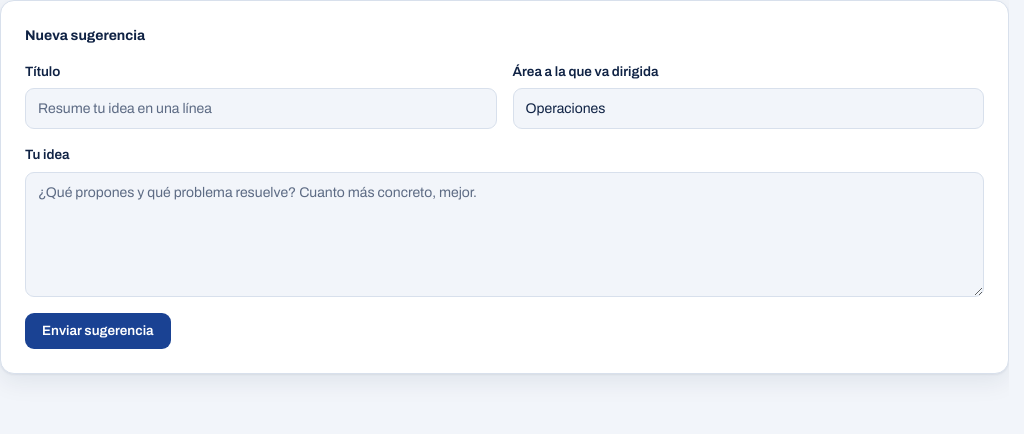
Test case: la validación local › deja de marcar el campo cuando el siguiente intento sale bien
This screenshot has width=1024, height=434.
In the field labelled "Título": (261, 109) [25, 88, 496, 129], type "Tablero"
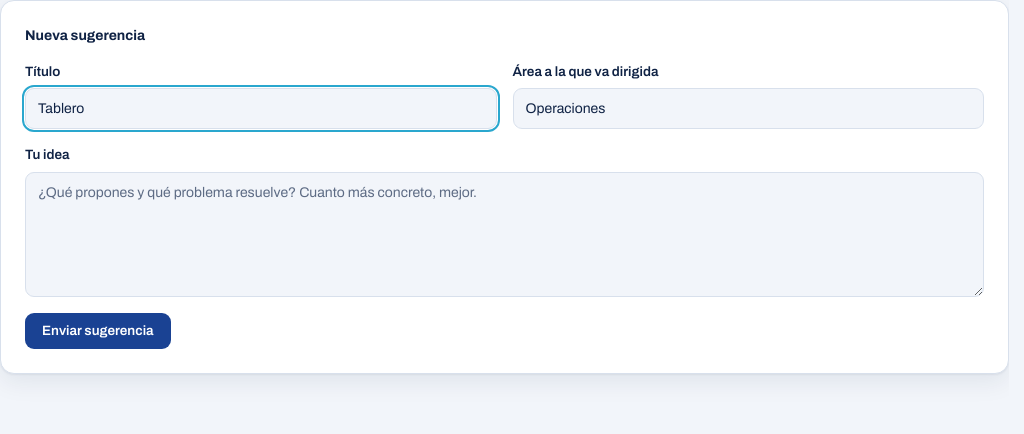
Click the button "Enviar sugerencia": (98, 331) [25, 312, 171, 349]
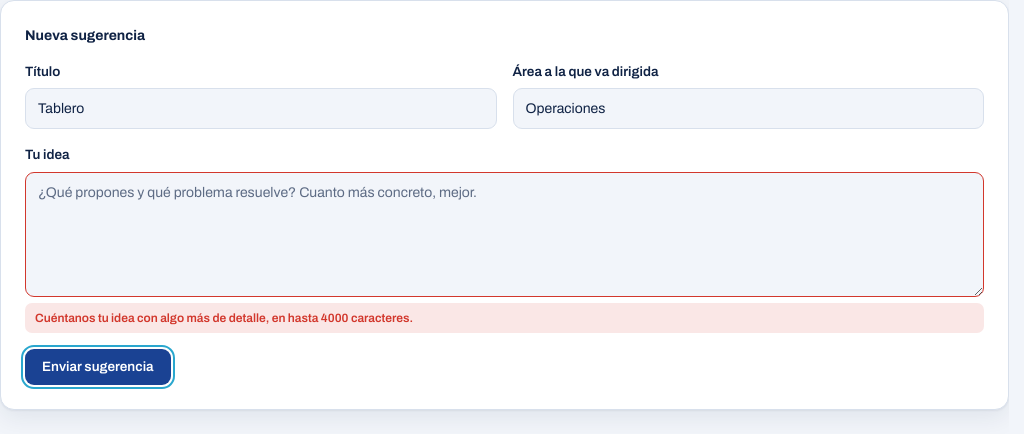
In the text box labelled "Tu idea": (504, 234) [25, 172, 984, 296], type "Ahora sí, la idea completa."
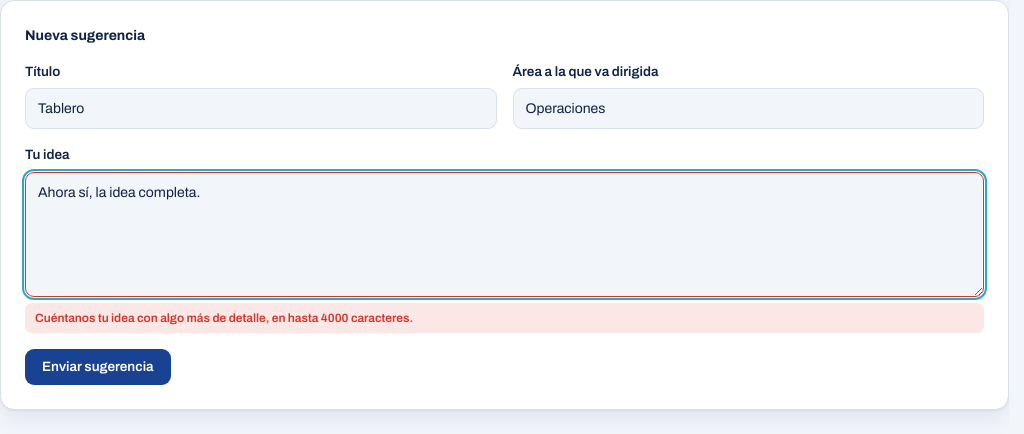
Click the button "Enviar sugerencia": (98, 367) [25, 348, 171, 385]
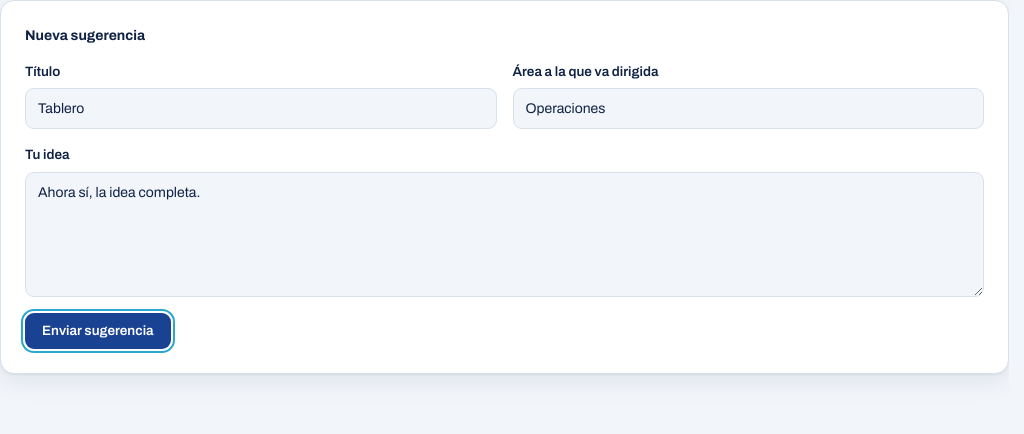
Expected: the message "Cuéntanos tu idea con algo más de detalle, en hasta 4000 caracteres." is gone
